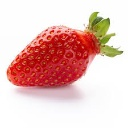strawberry: (6, 23, 112, 88)
